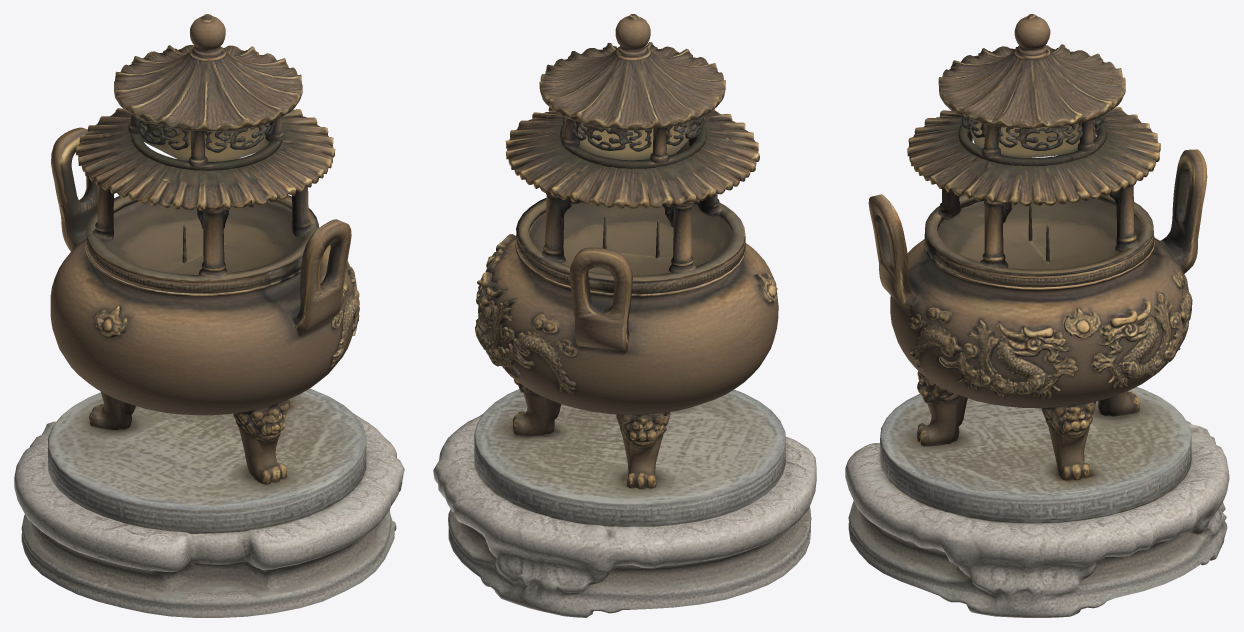
File: hill-burner.glb
3 renders of one model, left to right at view 1: azimuth 30°, elevation 25°; view 2: azimuth 150°, elevation 25°; view 3: azimuth 270°, elevation 25°, orthographic.
Visible parts, largest first — view 1: tripo_node_8a56ba95-4b43-4047-a8e1-d6edbe2cb2a3; view 2: tripo_node_8a56ba95-4b43-4047-a8e1-d6edbe2cb2a3; view 3: tripo_node_8a56ba95-4b43-4047-a8e1-d6edbe2cb2a3.
Boxes of the visible parts, x1,y1,x2,y2 form: tripo_node_8a56ba95-4b43-4047-a8e1-d6edbe2cb2a3: (14,14,404,617); tripo_node_8a56ba95-4b43-4047-a8e1-d6edbe2cb2a3: (433,14,816,617); tripo_node_8a56ba95-4b43-4047-a8e1-d6edbe2cb2a3: (845,14,1229,617).
Size of the model in its own units: 0.6601 by 0.9995 by 0.6621.
1 material, 1 textured.
